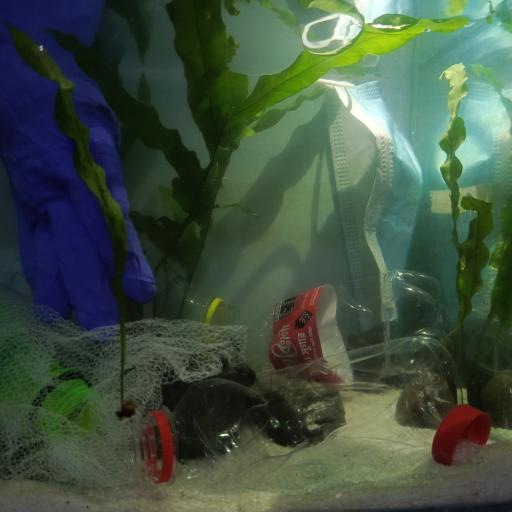bottle_cap: (430, 401, 489, 468)
glove: (2, 34, 162, 336)
mask: (320, 74, 426, 338)
net: (0, 286, 252, 495)
plastic_bottle: (127, 320, 470, 486), (232, 268, 450, 382), (0, 322, 107, 440), (153, 270, 241, 341)
